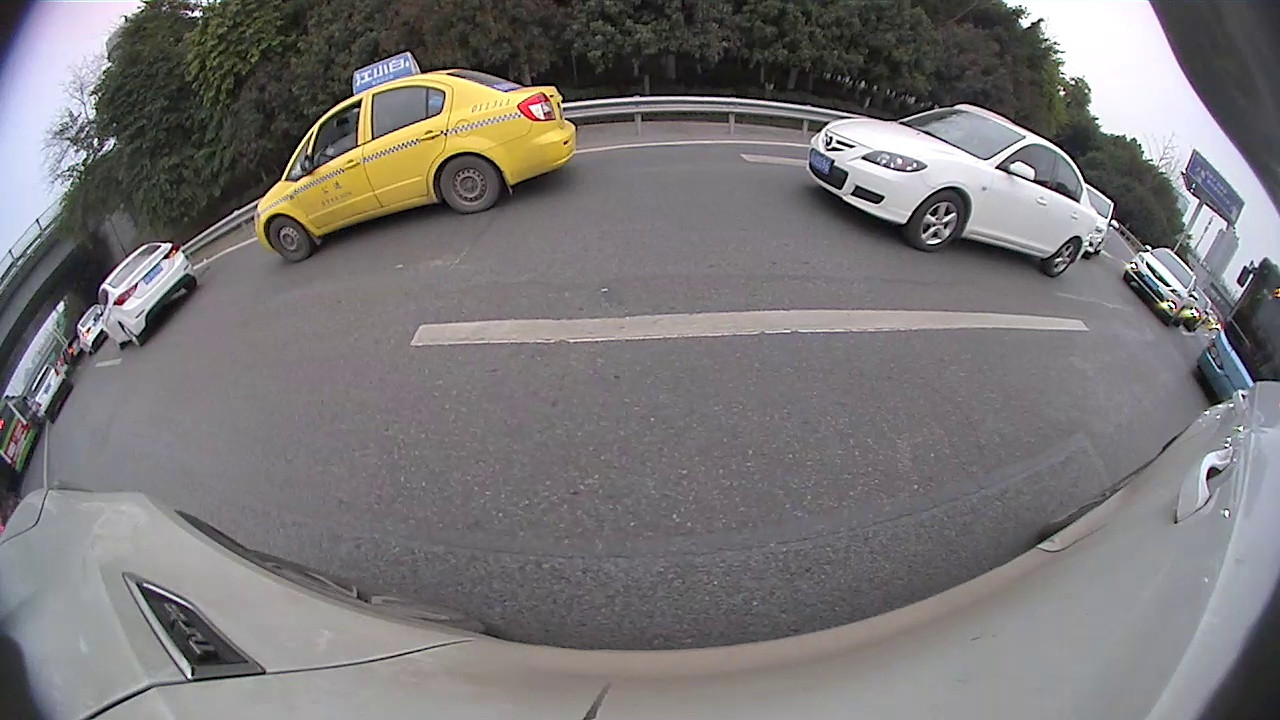bus: (1191, 253, 1278, 408)
car: (249, 49, 581, 263), (803, 102, 1099, 279), (97, 239, 200, 353), (1124, 244, 1198, 331), (23, 361, 77, 425), (1078, 176, 1116, 262), (68, 303, 111, 358)
front: (907, 188, 971, 253), (267, 214, 314, 265)
rear: (438, 152, 502, 216), (1042, 236, 1081, 280), (120, 322, 143, 349)
